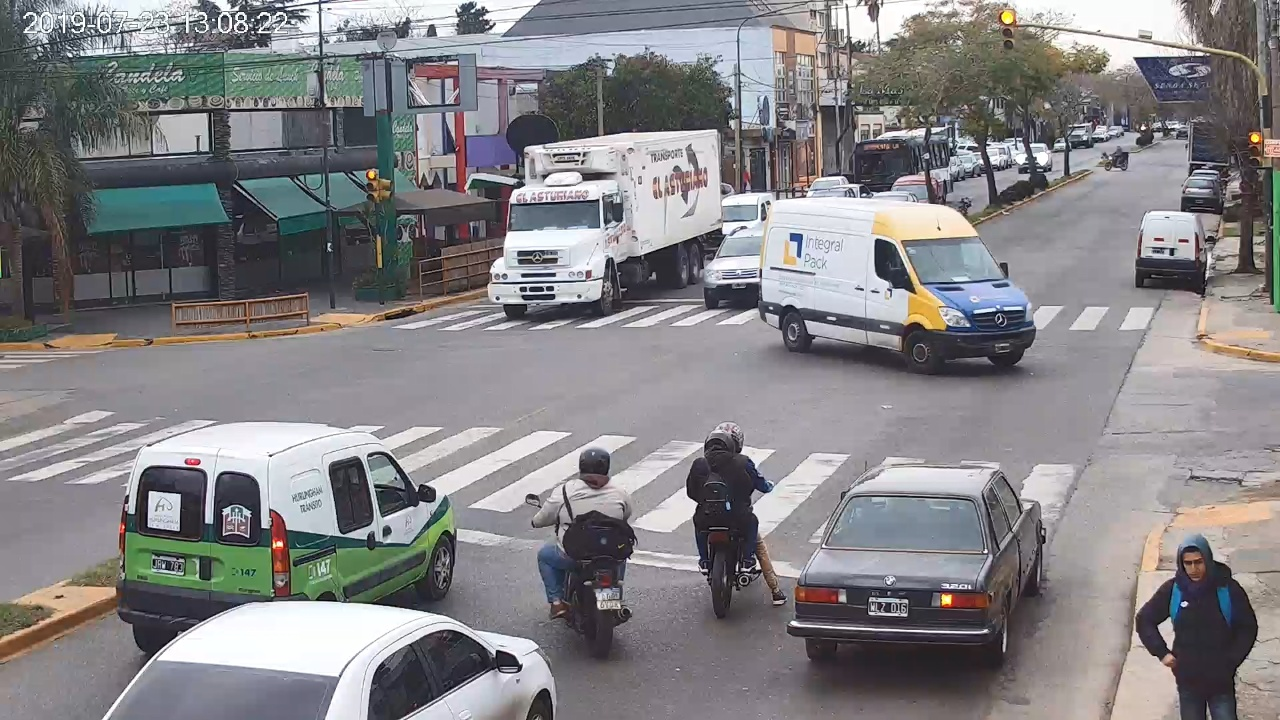car: (102, 602, 558, 720), (788, 464, 1047, 662), (1135, 210, 1213, 292)
front car: (758, 199, 1037, 375)
motorcycle: (526, 492, 635, 656), (686, 455, 787, 617)
traffic light: (1002, 10, 1014, 50), (1249, 131, 1261, 167)
